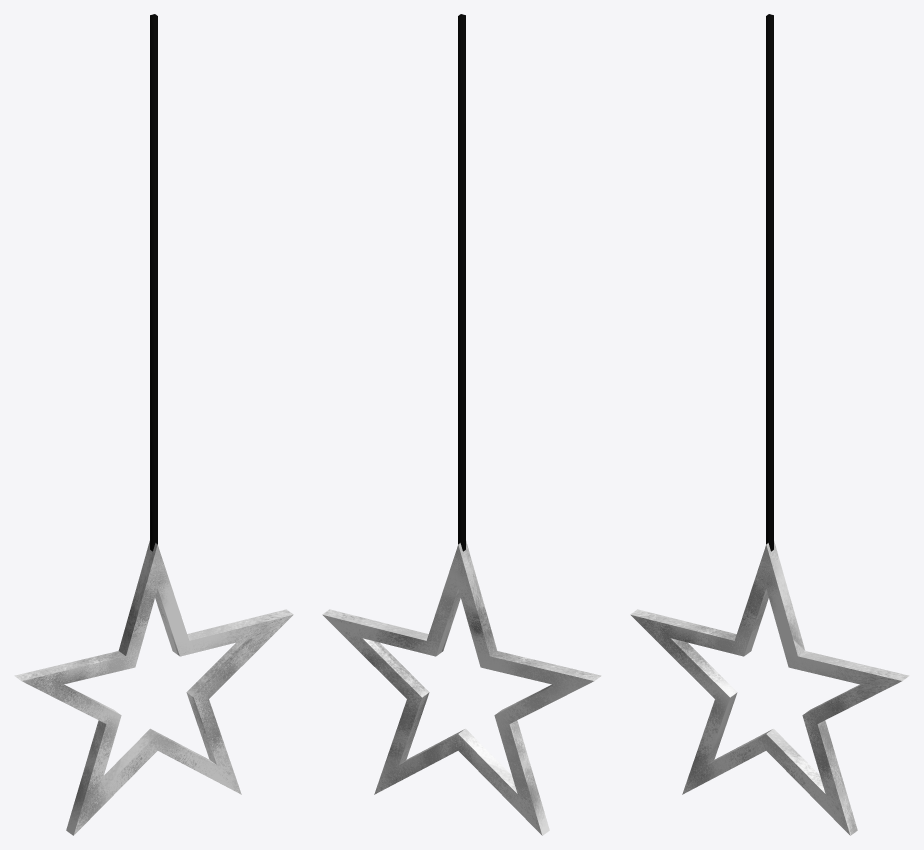
File: Ceiling_Star.fbx
3 views of the same model, side by side, from view 1: azimuth 30°, elevation 25°; view 2: azimuth 150°, elevation 25°; view 3: azimuth 330°, elevation 25° (orthographic).
Parts seen in each view (by area): view 1: Ceiling_Star; view 2: Ceiling_Star; view 3: Ceiling_Star.
Part boxes in pixels (left/top/right/bottom): Ceiling_Star: left=14, top=14, right=293, bottom=835; Ceiling_Star: left=322, top=14, right=601, bottom=835; Ceiling_Star: left=630, top=14, right=909, bottom=835.
Bounding box in the file's own units: 190 × 532 × 9.
Materials: 1 (1 with a texture image).
